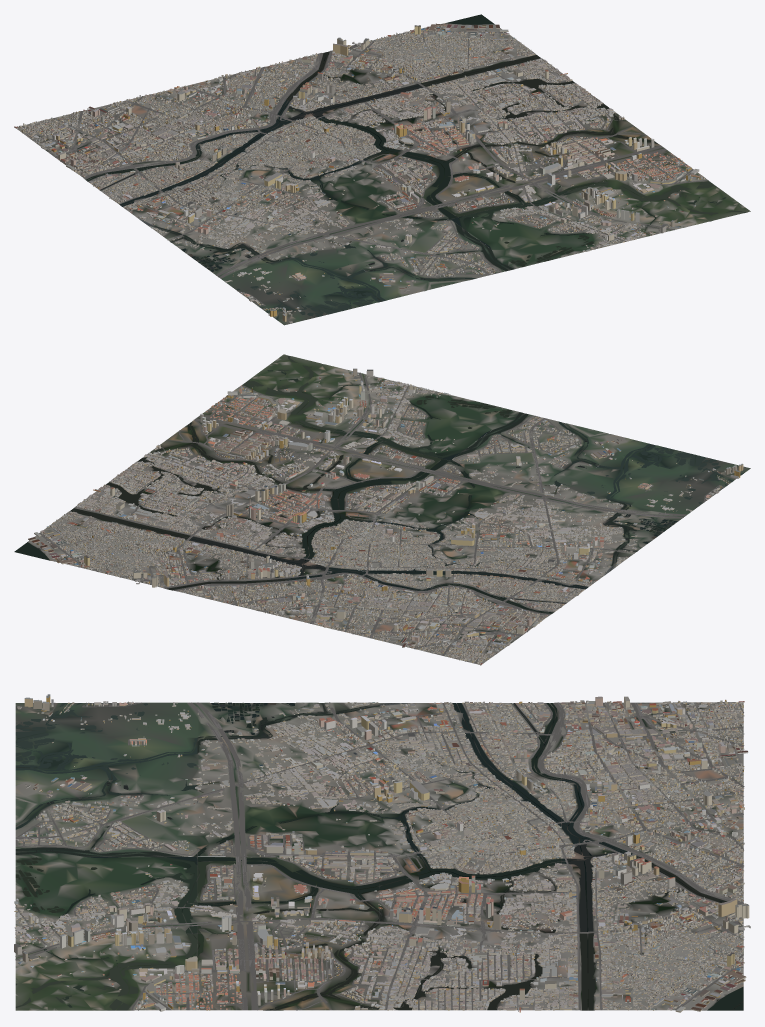
3 renders of one model, top to bottom at view 1: azimuth 30°, elevation 25°; view 2: azimuth 150°, elevation 25°; view 3: azimuth 270°, elevation 25°, orthographic. The views are drawn at different scales.
Visible parts, largest first — view 1: ground, buildings, roads, water; view 2: ground, buildings, roads, water; view 3: ground, buildings, roads, water.
Boxes of the visible parts, x1,y1,x2,y2 form: ground: (17,17,750,325); buildings: (14,23,704,323); roads: (22,31,707,324); water: (86,14,746,320); ground: (16,354,750,664); buildings: (28,368,743,665); roads: (39,372,746,663); water: (14,355,744,614); ground: (15,702,743,1010); buildings: (14,694,750,1012); roads: (15,702,744,1010); water: (15,702,743,1010).
Size of the model in its own units: 5662 by 126 by 5671.
